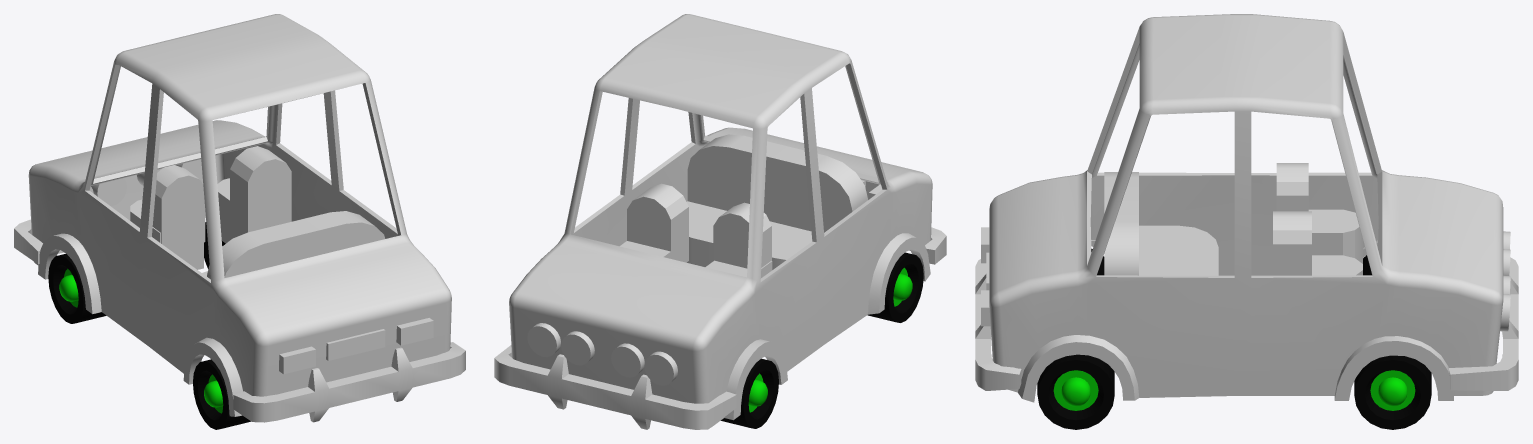
File: Blue_car.fbx
The picture shows the model from 3 angles, left to right: view 1: azimuth 30°, elevation 25°; view 2: azimuth 150°, elevation 25°; view 3: azimuth 270°, elevation 25°; orthographic projection. The views are drawn at different scales.
Visible parts, largest first — view 1: polySurface3, pPlane2, pCube2, pCube4, pCube6, pCylinder11, pCylinder10, pCube11, pCube7, pCube8, pCube10, pPlane1 (+2 smaller); view 2: polySurface3, pCube2, pPlane1, pCube4, pCube5, pCube6, pCylinder11, pCylinder10, pCylinder6, pCylinder13, pCylinder5, pCylinder12 (+3 smaller); view 3: polySurface3, pCylinder9, pCylinder2, pCube5, pPlane1, pCube2, pCube4, pCube8, pPlane2, pCube6, pCube7.
Boxes of the visible parts, bbox=[...] form: polySurface3: bbox=[28, 14, 451, 416]; pPlane2: bbox=[233, 342, 465, 422]; pCube2: bbox=[207, 211, 385, 279]; pCube4: bbox=[230, 146, 291, 232]; pCube6: bbox=[152, 165, 205, 250]; pCylinder11: bbox=[193, 359, 250, 429]; pCylinder10: bbox=[48, 254, 106, 323]; pCube11: bbox=[326, 329, 385, 360]; pCube7: bbox=[217, 178, 245, 243]; pCube8: bbox=[130, 199, 203, 269]; pCube10: bbox=[396, 318, 433, 345]; pPlane1: bbox=[14, 219, 42, 264]; polySurface3: bbox=[509, 14, 932, 427]; pCube2: bbox=[687, 134, 867, 232]; pPlane1: bbox=[494, 345, 736, 429]; pCube4: bbox=[627, 183, 688, 261]; pCube5: bbox=[686, 201, 812, 269]; pCube6: bbox=[713, 202, 771, 268]; pCylinder11: bbox=[867, 252, 923, 322]; pCylinder10: bbox=[721, 358, 778, 428]; pCylinder6: bbox=[611, 343, 644, 377]; pCylinder13: bbox=[561, 331, 594, 365]; pCylinder5: bbox=[644, 351, 677, 385]; pCylinder12: bbox=[527, 323, 560, 357]; polySurface3: bbox=[989, 14, 1503, 402]; pCylinder9: bbox=[1037, 354, 1114, 429]; pCylinder2: bbox=[1354, 355, 1431, 429]; pCube5: bbox=[1139, 225, 1218, 275]; pPlane1: bbox=[1449, 257, 1518, 390]; pCube2: bbox=[1104, 172, 1138, 275]; pCube4: bbox=[1273, 211, 1311, 275]; pCube8: bbox=[1308, 209, 1362, 263]; pPlane2: bbox=[975, 259, 1021, 390]; pCube6: bbox=[1276, 163, 1308, 211]; pCube7: bbox=[1312, 255, 1362, 275].
Bounding box in the file's own units: 5.99 × 7.48 × 11.64.
